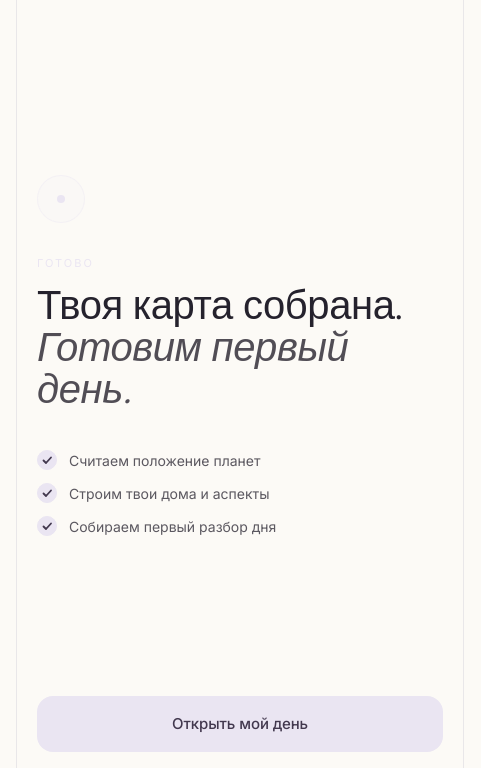
Test: OnboardingFlow finish guards › routes back to the birth step when exact time is required but unknown
Step 1. Click the button "Открыть мой день" → (240, 724), box [37,696,443,752]
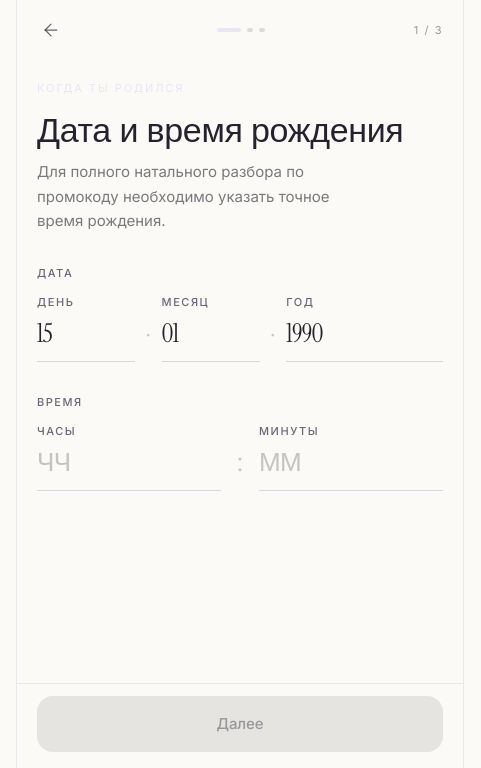
Expected: the button "Открыть" is gone
